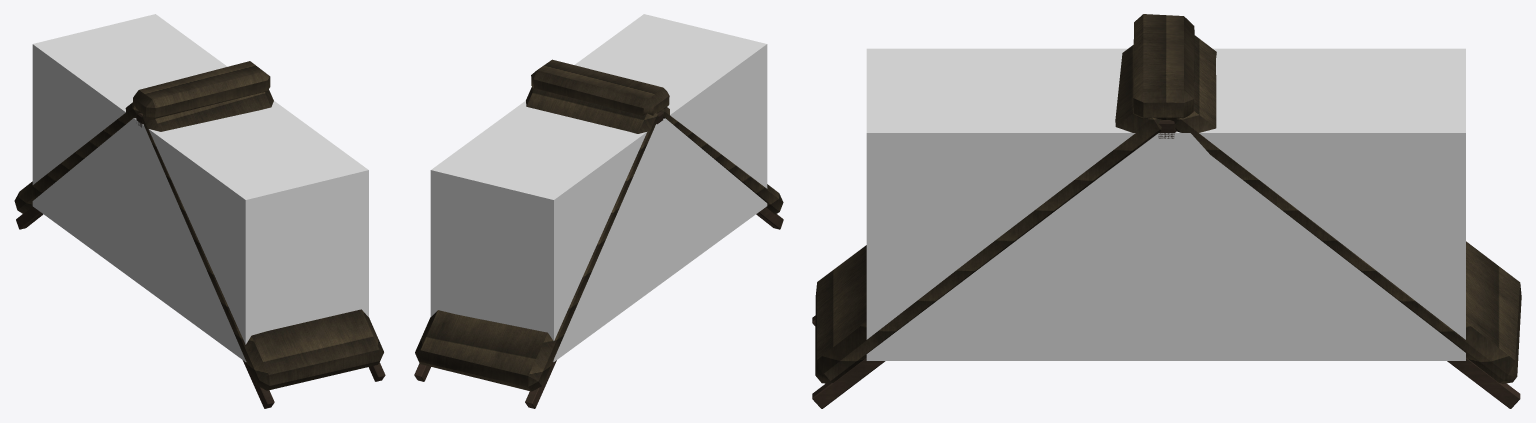
File: ak_roof_thatch_span6_2m.glb
3 renders of one model, left to right at view 1: azimuth 30°, elevation 25°; view 2: azimuth 150°, elevation 25°; view 3: azimuth 270°, elevation 25°, orthographic. The views are drawn at different scales.
Visible parts, largest first — view 1: col_roof, roof; view 2: col_roof, roof; view 3: col_roof, roof.
Part boxes in pixels (x1,y1,x2,y2): col_roof: (32,14,368,361); roof: (14,61,385,408); col_roof: (430,14,767,362); roof: (414,59,783,408); col_roof: (866,48,1465,360); roof: (812,14,1521,408).
Size of the model in its own units: 2.05 by 3.51 by 7.1.
2 materials, 2 textured.
